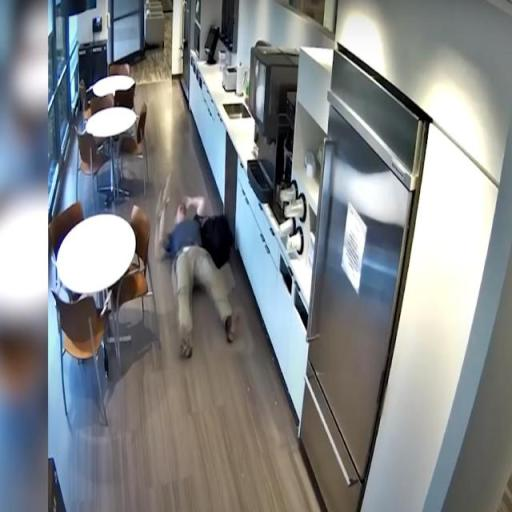Fall: (154, 190, 241, 364)
